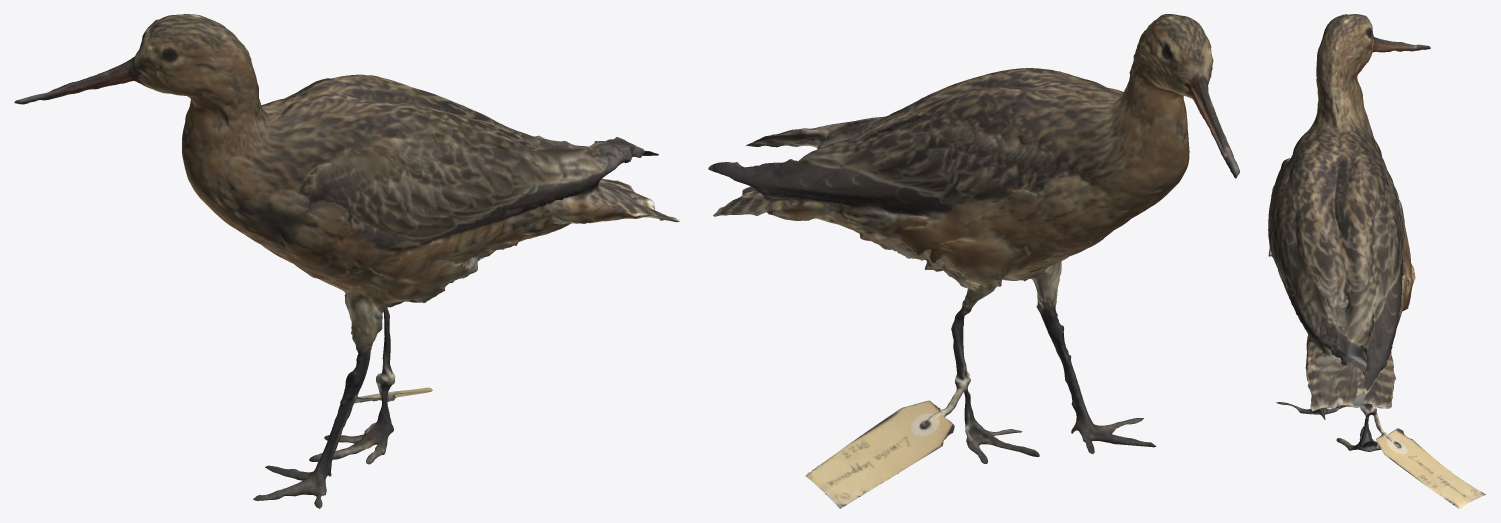
File: sf-bar-tailed-godwit-kuaka-ef5527.glb
The picture shows the model from 3 angles, left to right: view 1: azimuth 30°, elevation 25°; view 2: azimuth 150°, elevation 25°; view 3: azimuth 270°, elevation 25°; orthographic projection. The views are drawn at different scales.
Parts seen in each view (by area): view 1: Object_2; view 2: Object_2; view 3: Object_2.
Part boxes in pixels (x1,y1,x2,y2): Object_2: [14, 14, 679, 508]; Object_2: [708, 14, 1239, 508]; Object_2: [1268, 14, 1486, 508].
Bounding box in the file's own units: 314 × 256 × 133.
Materials: 1 (1 with a texture image).
